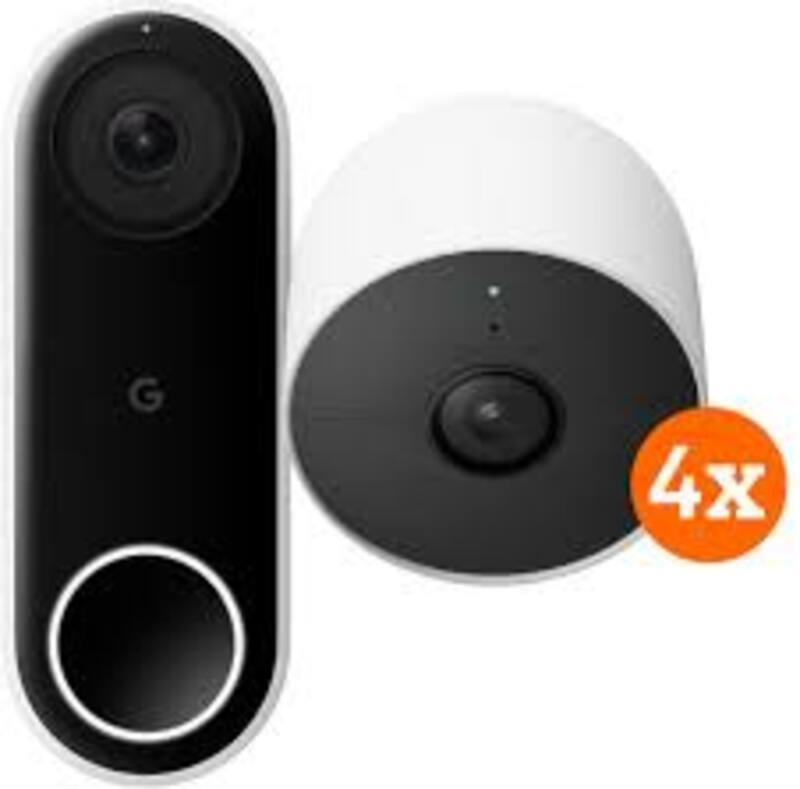doorbell: (18, 15, 292, 787)
nest: (302, 96, 716, 585)
